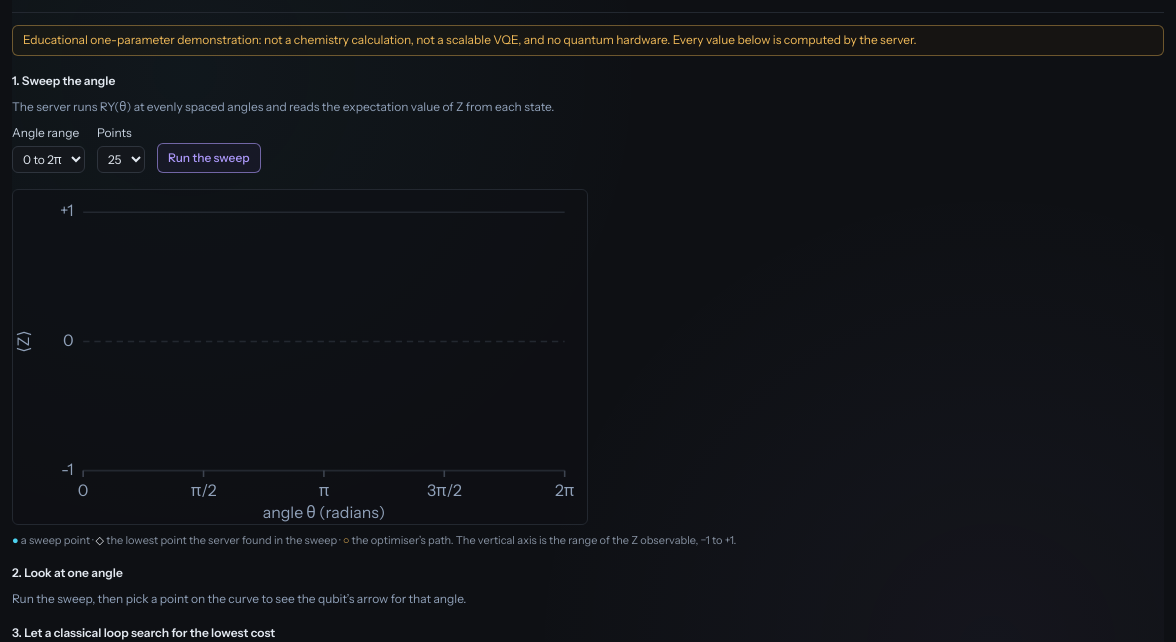
Test: the sweep › an answer to a superseded request is dropped
The image size is (1176, 642).
Click the button "Run the sweep" at (209, 158), box [157,142,261,172]
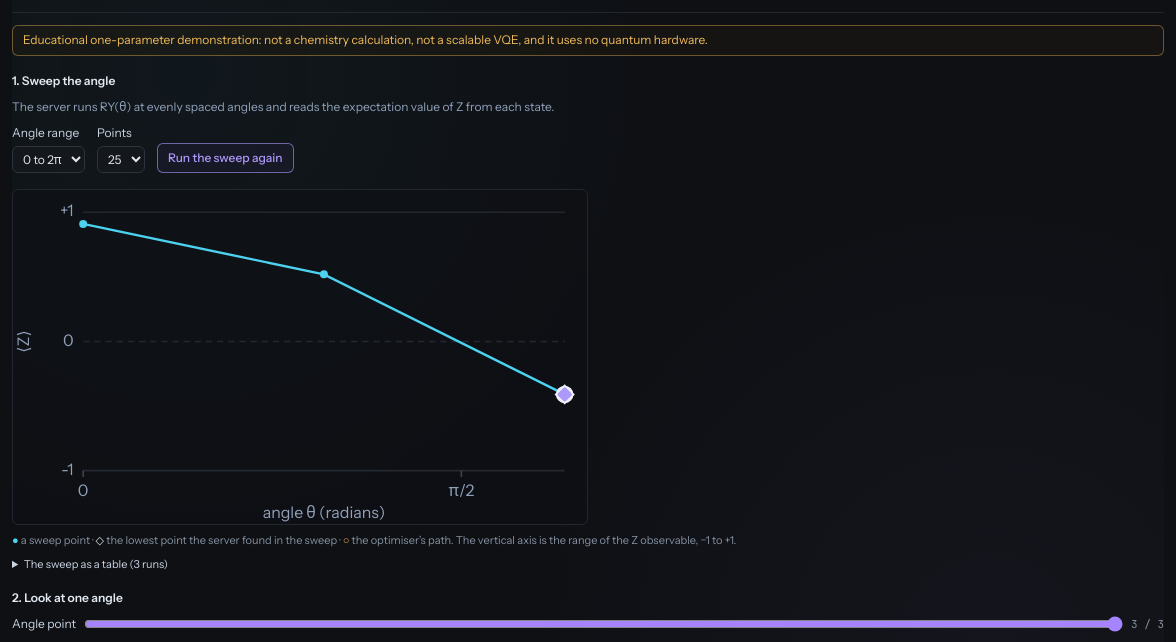
Expected: the picture named "3 sweep points" is shown, [12,188,588,525]
